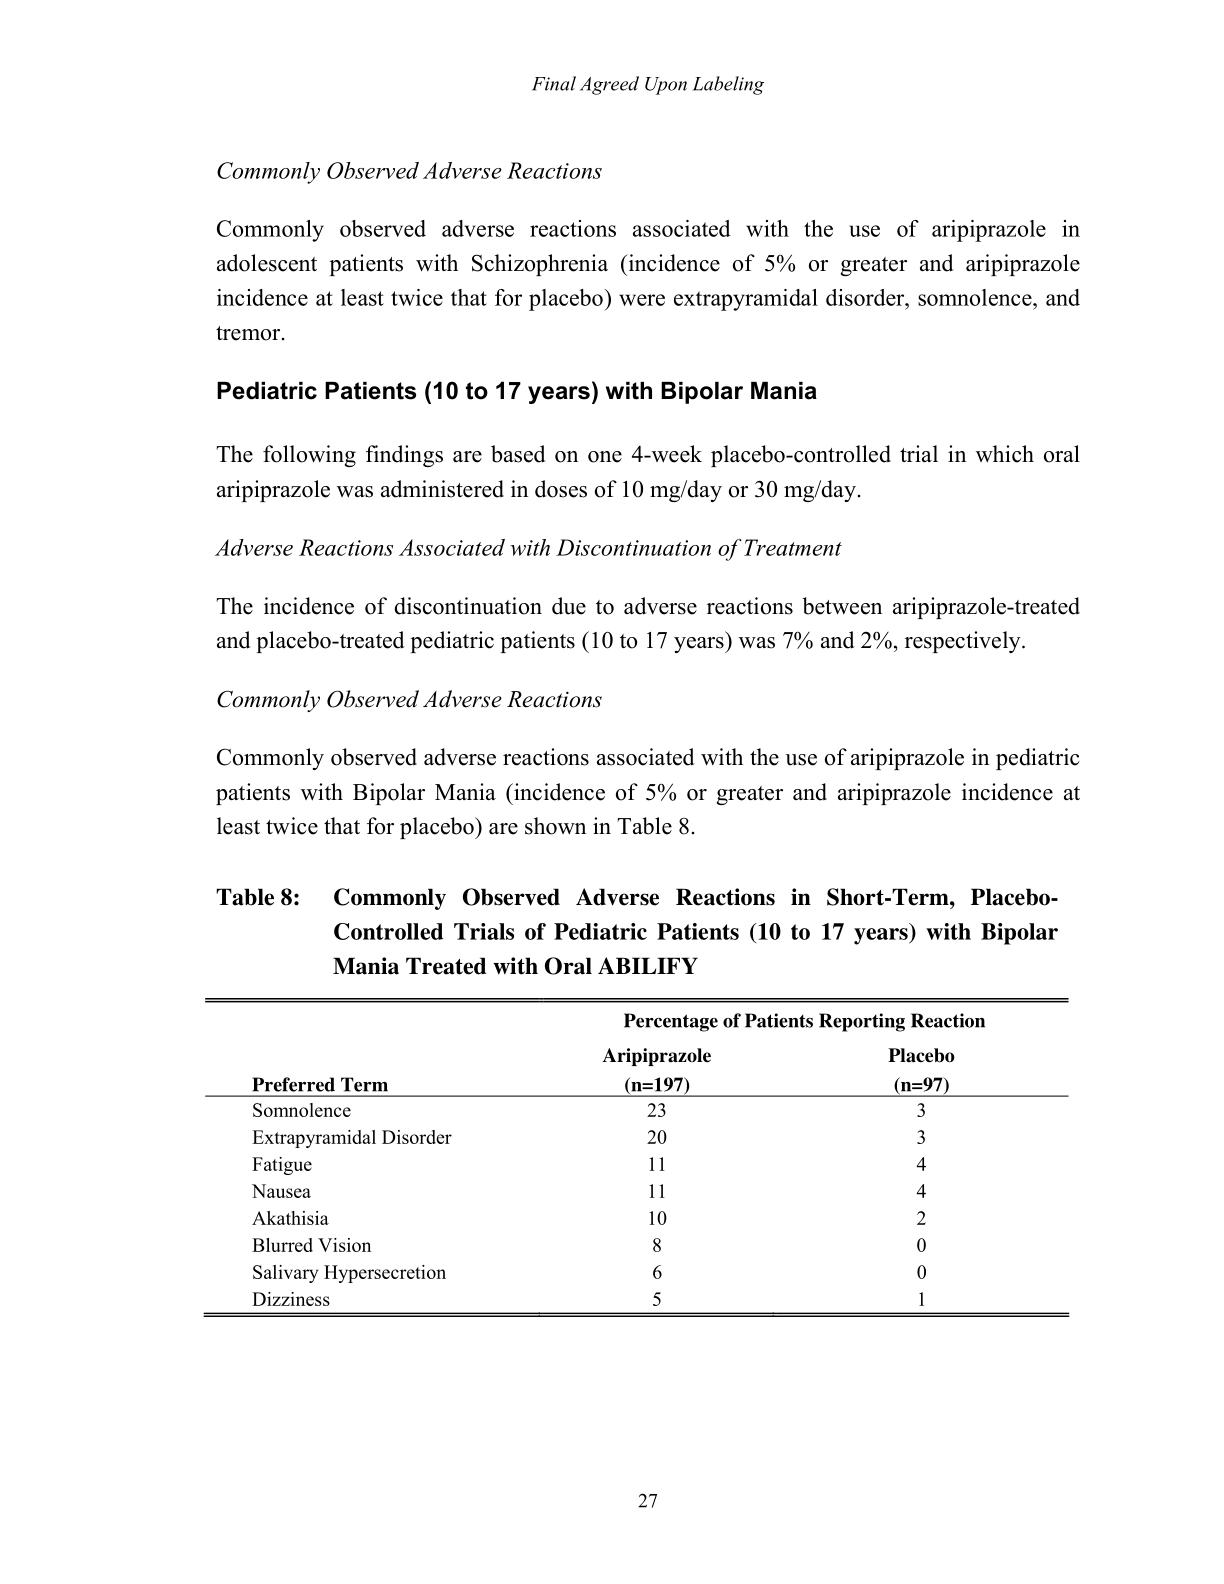partial_lined_merged_cells: (202, 996, 1070, 1318)
